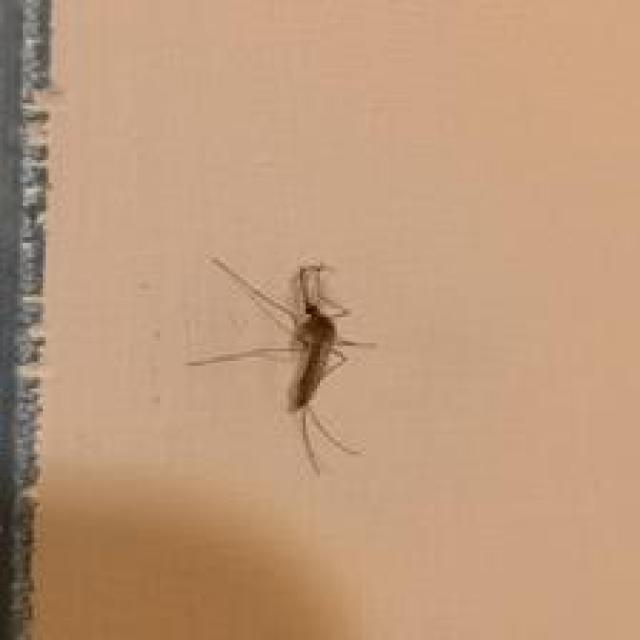Culex: (184, 253, 379, 476)
